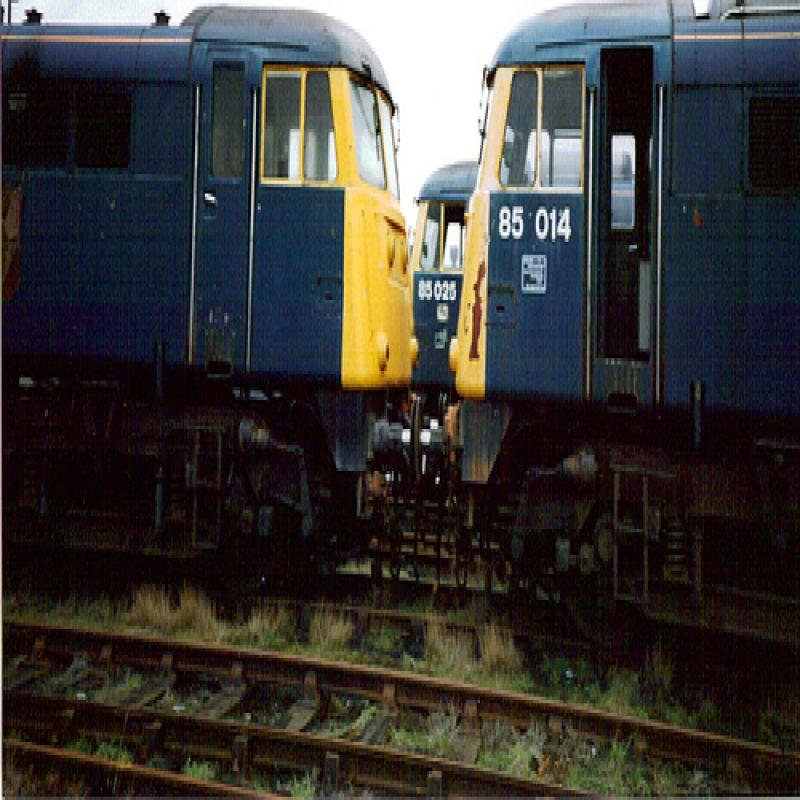train: (2, 10, 800, 720), (409, 150, 639, 421)
